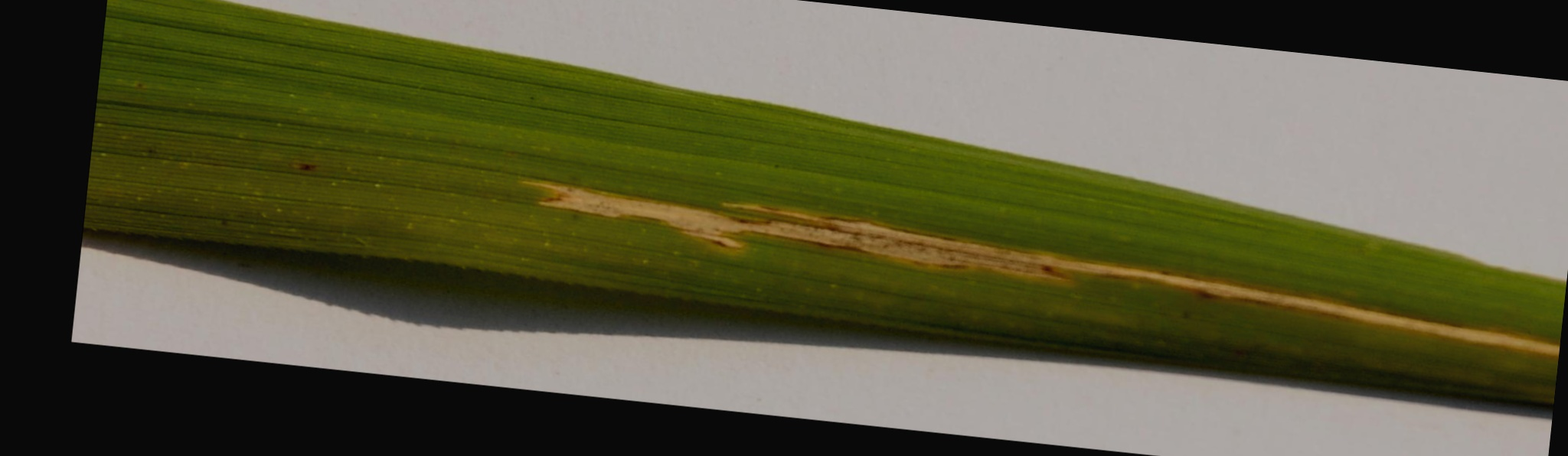Leaf_Blast: (499, 209, 1539, 303)
